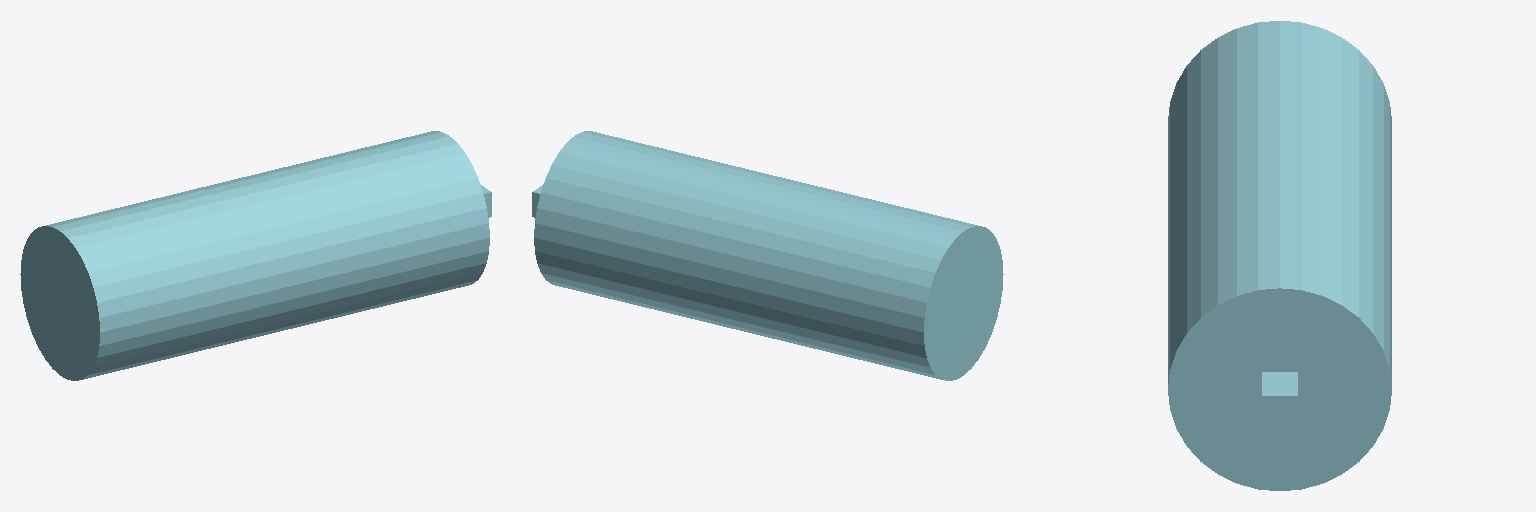
URDF robot description (cylinder_marker_v4003):
<?xml version="1.0"?>
<robot name="cylinder_marker_v4003">

  <link name="cylinder_marker_v4003">
    <!-- Handle -->
    <visual>
      <origin xyz="0 0 0" rpy="0 1.5707963267948966 0"/>
      <geometry>
        <cylinder length="0.13879002593930867" radius="0.024556108259868113"/>
      </geometry>
      <material name="material">
        <color rgba="0.639 0.847 0.882 1.0"/>
      </material>
    </visual>
    <collision>
      <origin xyz="0 0 0" rpy="0 1.5707963267948966 0"/>
      <geometry>
        <cylinder length="0.13879002593930867" radius="0.024556108259868113"/>
      </geometry>
    </collision>

    <!-- Head -->
    <visual>
      <origin xyz="0.07561422975300545 0 0" rpy="0 0 0"/>
      <geometry>
        <box size="0.012438433566702252 0.007941289999846104 0.008430481825527244"/>
      </geometry>
      <material name="material">
        <color rgba="0.639 0.847 0.882 1.0"/>
      </material>
    </visual>
    <collision>
      <origin xyz="0.07561422975300545 0 0" rpy="0 0 0"/>
      <geometry>
        <box size="0.012438433566702252 0.007941289999846104 0.008430481825527244"/>
      </geometry>
    </collision>

    <inertial>
      <density value="400.0"/>
    </inertial>
  </link>

</robot>

--- Render facts (derived) ---
Views: 3 orthographic renders of the robot side by side, from view 1: azimuth 30°, elevation 25°; view 2: azimuth 150°, elevation 25°; view 3: azimuth 270°, elevation 25°.
Robot: cylinder_marker_v4003 — 1 links, 0 joints (none); root link cylinder_marker_v4003; default pose: every joint at zero.
Links seen in each view (by area): view 1: cylinder_marker_v4003; view 2: cylinder_marker_v4003; view 3: cylinder_marker_v4003.
Boxes of the visible links, <box> form: cylinder_marker_v4003: <box>20,131,491,380</box>; cylinder_marker_v4003: <box>532,131,1003,380</box>; cylinder_marker_v4003: <box>1168,21,1391,490</box>.
Size in the robot's own frame: 0.1512 by 0.0491 by 0.0491 metres.
Geometry: primitives only (box / cylinder / sphere), no mesh files.
